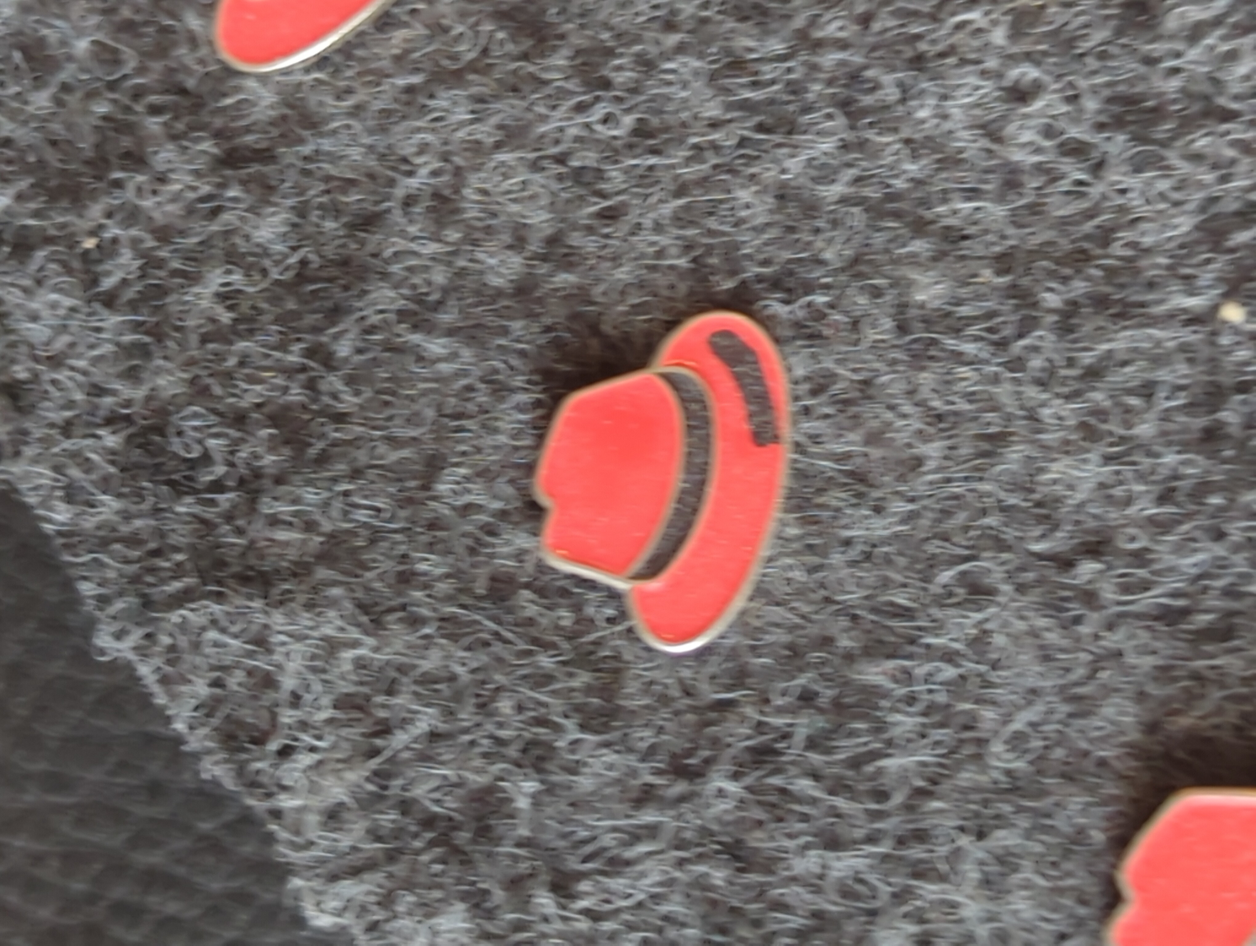Red-Hat: (430, 218, 937, 727)
Scratch: (683, 307, 837, 477)
